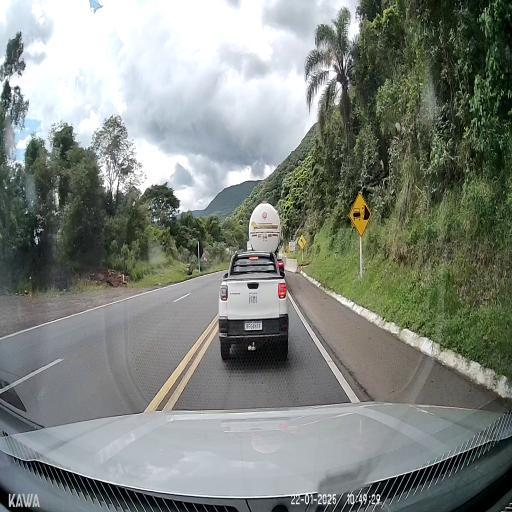A-27: (348, 191, 372, 237)
A-2a: (298, 234, 306, 250)
